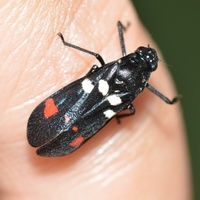insect: (27, 21, 179, 156)
